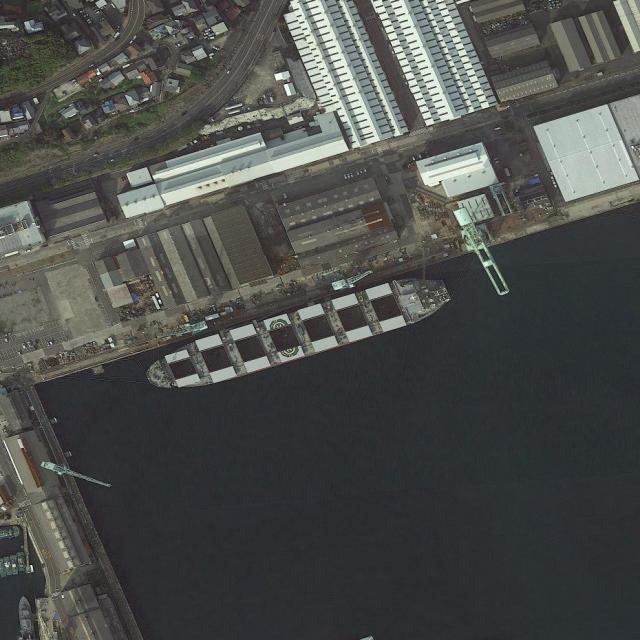Cargo: (138, 262, 457, 405)
